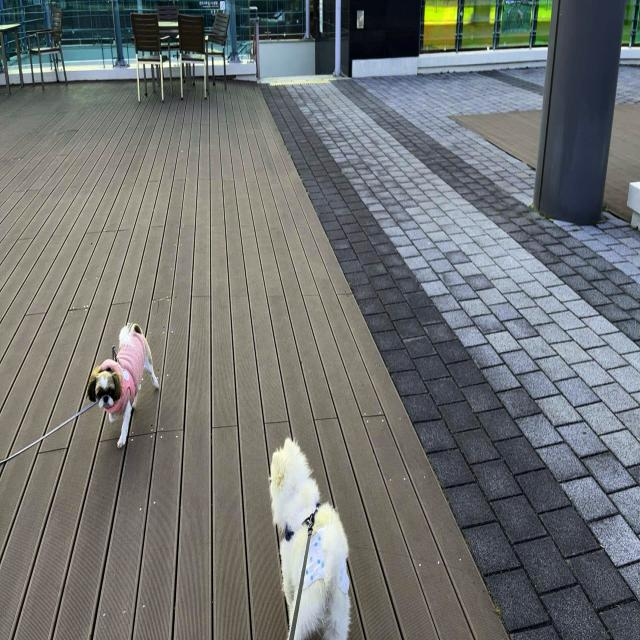Dog: (268, 436, 352, 640), (86, 321, 160, 451)
